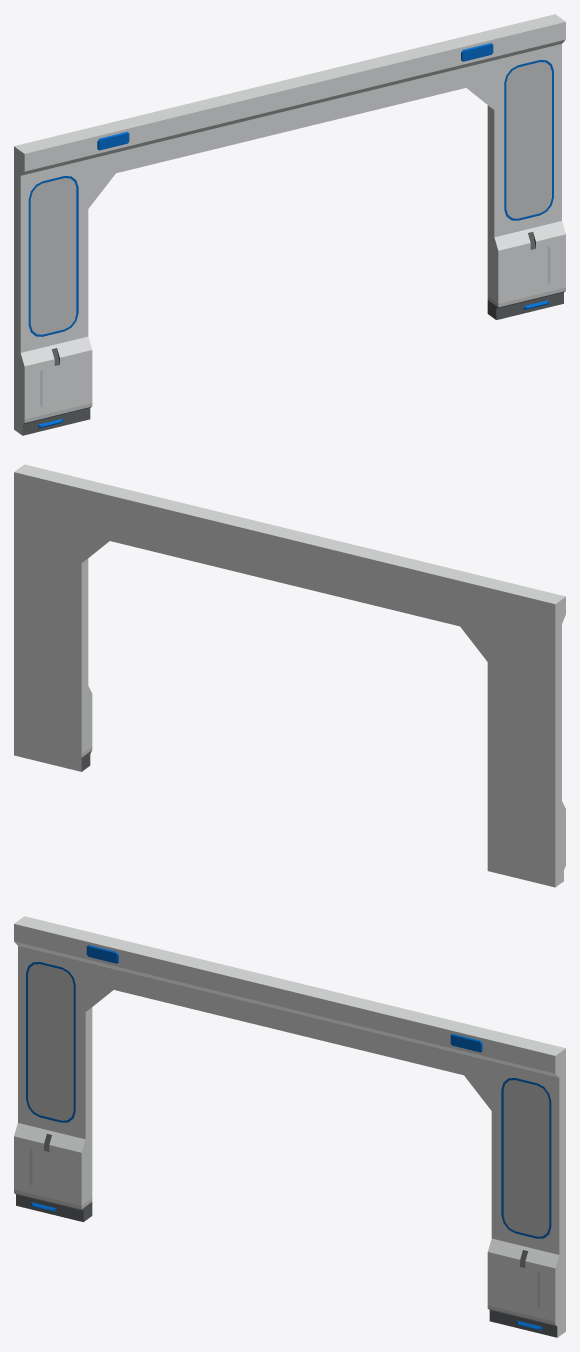
The model's file is Wall_type_A_057.fbx.
3 views of the same model, one above another, from view 1: azimuth 30°, elevation 25°; view 2: azimuth 150°, elevation 25°; view 3: azimuth 330°, elevation 25° (orthographic).
Visible parts, largest first — view 1: Wall_type_A_057; view 2: Wall_type_A_057; view 3: Wall_type_A_057.
Boxes of the visible parts, x1=… form: Wall_type_A_057: x1=14, y1=14, x2=565, y2=435; Wall_type_A_057: x1=14, y1=464, x2=565, y2=887; Wall_type_A_057: x1=14, y1=916, x2=565, y2=1337.
Size of the model in its own units: 800 by 28.98 by 400.
